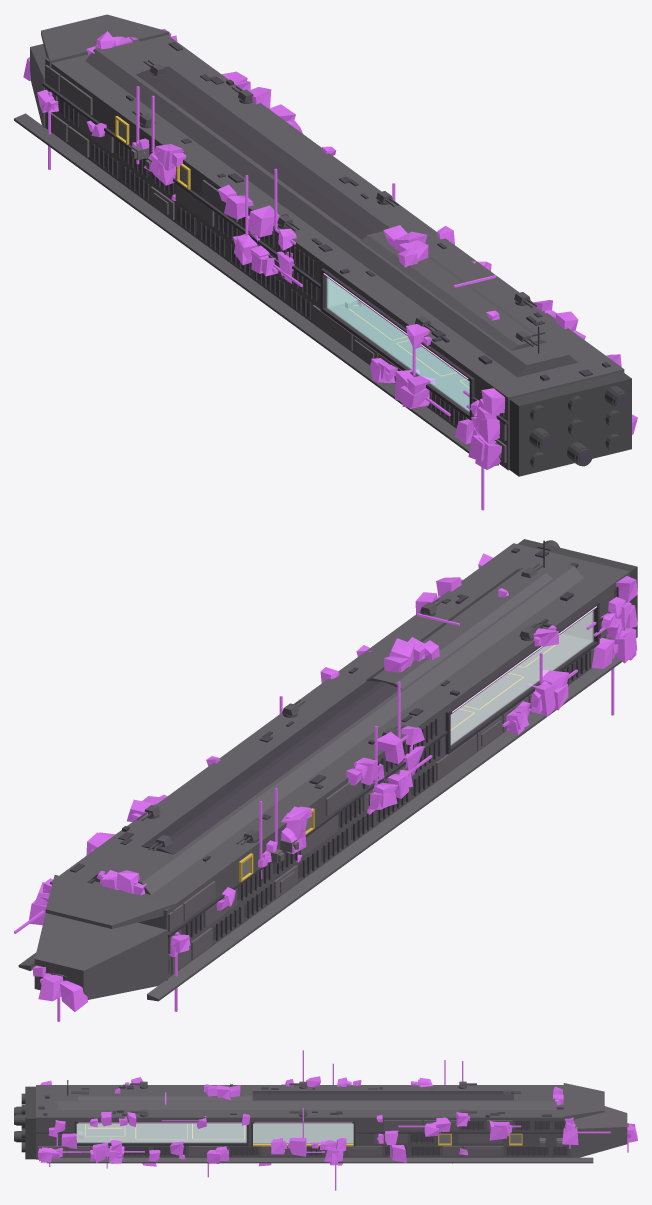
Rendered from ship_LARGE_v3.glb.
3 views of the same model, one above another, from view 1: azimuth 30°, elevation 25°; view 2: azimuth 150°, elevation 25°; view 3: azimuth 270°, elevation 25° (orthographic). The views are drawn at different scales.
Visible parts, largest first — view 1: LARGE_Hull-col, LARGE_Growth, LARGE_Trim, LARGE_Engines, LARGE_Armor, LARGE_HangarShield_Port, LARGE_Decks-col, LARGE_Accent, LARGE_Details; view 2: LARGE_Hull-col, LARGE_Growth, LARGE_Trim, LARGE_Armor, LARGE_HangarShield_Port, LARGE_Decks-col, LARGE_Accent, LARGE_Details, LARGE_Engines; view 3: LARGE_Hull-col, LARGE_Growth, LARGE_Trim, LARGE_HangarShield_Starboard, LARGE_Armor, LARGE_Decks-col, LARGE_Accent, LARGE_CargoBayShield, LARGE_CargoBayDoor-col, LARGE_Engines, LARGE_Hazard, LARGE_Details (+1 smaller).
Boxes of the visible parts, x1,y1,x2,y2 form: LARGE_Hull-col: [14, 14, 624, 470]; LARGE_Growth: [23, 28, 637, 510]; LARGE_Trim: [42, 66, 508, 424]; LARGE_Engines: [509, 372, 631, 476]; LARGE_Armor: [45, 64, 506, 462]; LARGE_HangarShield_Port: [327, 277, 469, 411]; LARGE_Decks-col: [329, 300, 469, 410]; LARGE_Accent: [47, 99, 504, 424]; LARGE_Details: [126, 42, 610, 380]; LARGE_Hull-col: [18, 543, 629, 1001]; LARGE_Growth: [14, 553, 637, 1021]; LARGE_Trim: [141, 587, 618, 940]; LARGE_Armor: [168, 601, 630, 973]; LARGE_HangarShield_Port: [450, 610, 593, 744]; LARGE_Decks-col: [450, 633, 590, 743]; LARGE_Accent: [168, 588, 616, 973]; LARGE_Details: [70, 540, 578, 883]; LARGE_Engines: [51, 539, 637, 980]; LARGE_Hull-col: [36, 1083, 627, 1163]; LARGE_Growth: [37, 1050, 637, 1190]; LARGE_Trim: [36, 1091, 564, 1156]; LARGE_HangarShield_Starboard: [76, 1123, 246, 1142]; LARGE_Armor: [37, 1120, 512, 1156]; LARGE_Decks-col: [76, 1123, 246, 1142]; LARGE_Accent: [124, 1121, 567, 1154]; LARGE_CargoBayShield: [253, 1123, 353, 1143]; LARGE_CargoBayDoor-col: [253, 1123, 353, 1143]; LARGE_Engines: [14, 1086, 628, 1159]; LARGE_Hazard: [85, 1123, 522, 1146]; LARGE_Details: [38, 1080, 563, 1117].
Size of the model in its own units: 28.95 by 33.47 by 176.
